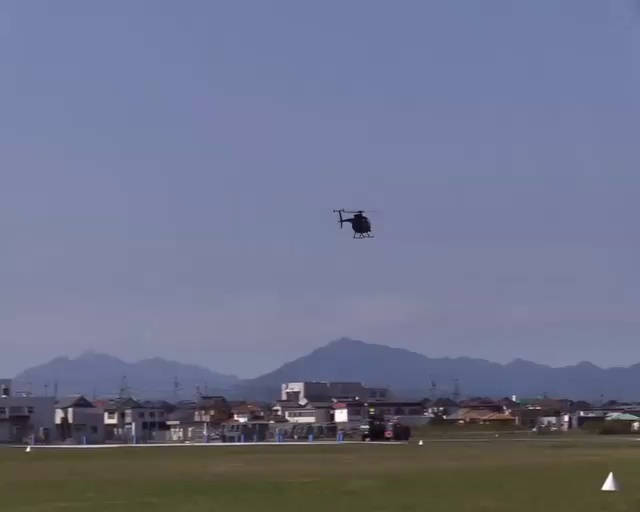HELICOPTER: (332, 207, 376, 239)
